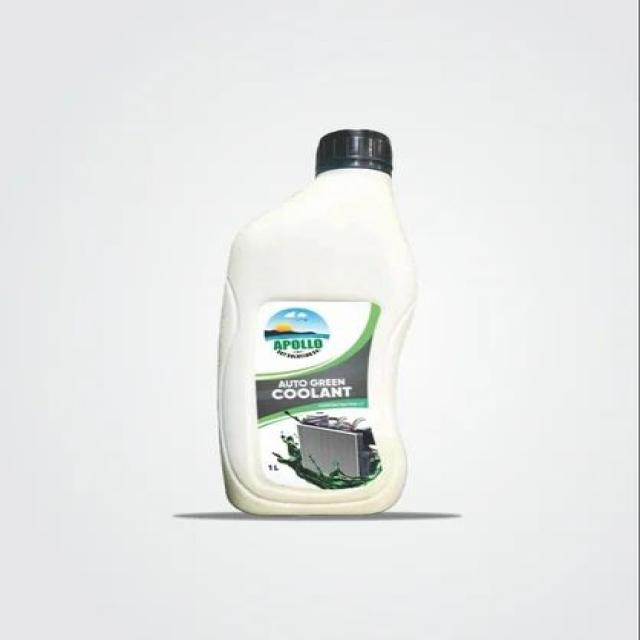coolant: (211, 122, 422, 520)
